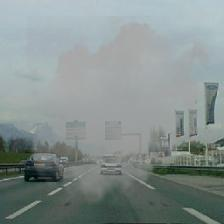fire: (26, 16, 216, 211)
